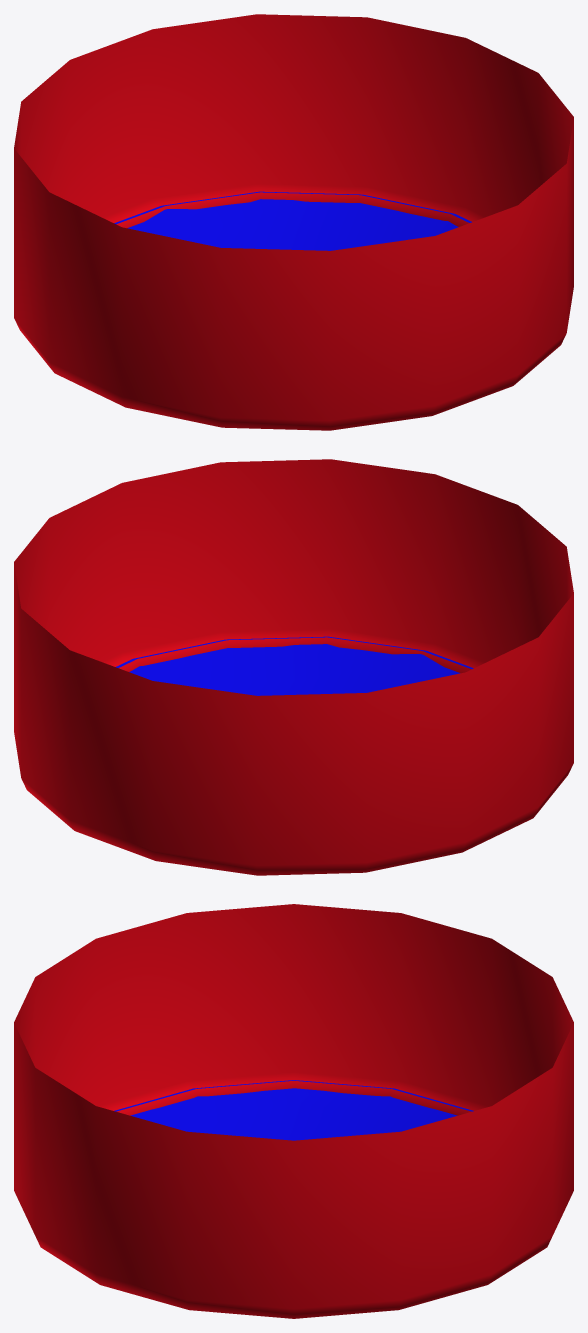
File: Light.fbx
The picture shows the model from 3 angles, top to bottom: view 1: azimuth 30°, elevation 25°; view 2: azimuth 150°, elevation 25°; view 3: azimuth 270°, elevation 25°; orthographic projection.
Parts seen in each view (by area): view 1: Light Base; view 2: Light Base; view 3: Light Base.
Boxes of the visible parts, box(x1,y1,x2,y2) form: Light Base: box(14, 14, 573, 430); Light Base: box(14, 459, 573, 875); Light Base: box(14, 904, 573, 1318).
Size of the model in its own units: 200 by 88.79 by 200.
